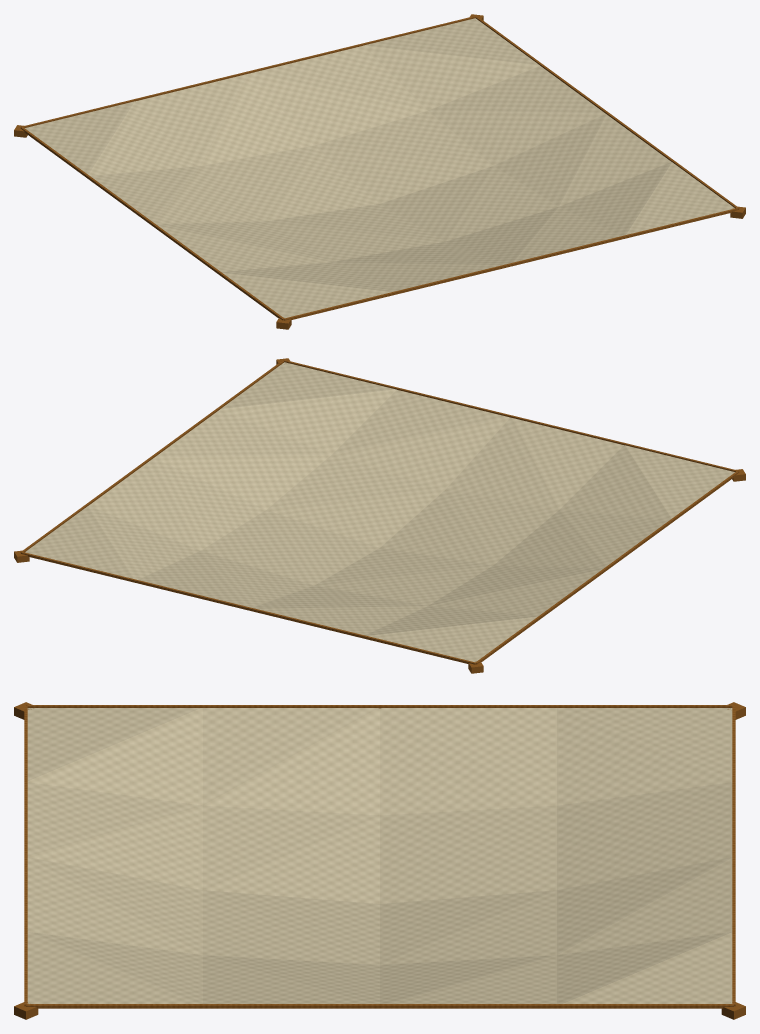
3 views of the same model, one above another, from view 1: azimuth 30°, elevation 25°; view 2: azimuth 150°, elevation 25°; view 3: azimuth 270°, elevation 25° (orthographic). The views are drawn at different scales.
Parts seen in each view (by area): view 1: LOD2__Taut woven removable canopy with shallow sag, LOD2__Canopy sewn tension edge, LOD2__Canopy sewn tension edge.002, LOD2__Canopy sewn tension edge.003, LOD2__Canopy sewn tension edge.001; view 2: LOD2__Taut woven removable canopy with shallow sag, LOD2__Canopy sewn tension edge.002, LOD2__Canopy sewn tension edge, LOD2__Canopy sewn tension edge.003, LOD2__Canopy sewn tension edge.001; view 3: LOD2__Taut woven removable canopy with shallow sag, LOD2__Canopy sewn tension edge.001, LOD2__Canopy sewn tension edge.003, LOD2__Canopy sewn tension edge, LOD2__Canopy sewn tension edge.002.
Boxes of the visible parts, x1=… form: LOD2__Taut woven removable canopy with shallow sag: x1=25, y1=18, x2=734, y2=318; LOD2__Canopy sewn tension edge: x1=284, y1=208, x2=738, y2=320; LOD2__Canopy sewn tension edge.002: x1=21, y1=16, x2=475, y2=127; LOD2__Canopy sewn tension edge.003: x1=20, y1=127, x2=284, y2=320; LOD2__Canopy sewn tension edge.001: x1=475, y1=16, x2=739, y2=208; LOD2__Taut woven removable canopy with shallow sag: x1=25, y1=362, x2=734, y2=662; LOD2__Canopy sewn tension edge.002: x1=21, y1=552, x2=475, y2=664; LOD2__Canopy sewn tension edge: x1=284, y1=360, x2=738, y2=471; LOD2__Canopy sewn tension edge.003: x1=475, y1=471, x2=739, y2=664; LOD2__Canopy sewn tension edge.001: x1=20, y1=360, x2=284, y2=552; LOD2__Taut woven removable canopy with shallow sag: x1=27, y1=708, x2=732, y2=1003; LOD2__Canopy sewn tension edge.001: x1=26, y1=1004, x2=733, y2=1008; LOD2__Canopy sewn tension edge.003: x1=26, y1=705, x2=733, y2=708; LOD2__Canopy sewn tension edge: x1=24, y1=705, x2=27, y2=1006; LOD2__Canopy sewn tension edge.002: x1=732, y1=705, x2=735, y2=1006.
Size of the model in its own units: 3.93 by 0.293 by 3.93.
Materials: 2 (2 with a texture image).
